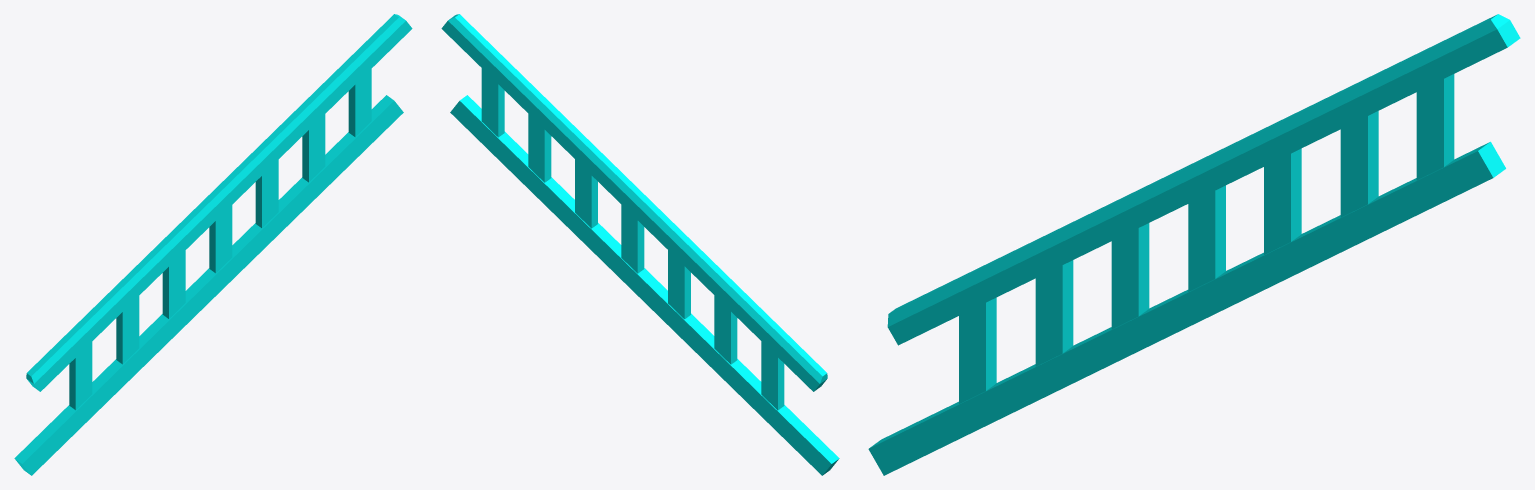
The model's file is EscapeRouteRailingDiagonal.FBX.
3 renders of one model, left to right at view 1: azimuth 30°, elevation 25°; view 2: azimuth 150°, elevation 25°; view 3: azimuth 330°, elevation 25°, orthographic. The views are drawn at different scales.
Parts seen in each view (by area): view 1: HandRailingEscapeRoute002; view 2: HandRailingEscapeRoute002; view 3: HandRailingEscapeRoute002.
Boxes of the visible parts, bbox=[...] form: HandRailingEscapeRoute002: bbox=[14, 14, 412, 475]; HandRailingEscapeRoute002: bbox=[441, 14, 839, 475]; HandRailingEscapeRoute002: bbox=[868, 14, 1520, 475].
Size of the model in its own units: 720 by 25.01 by 647.
